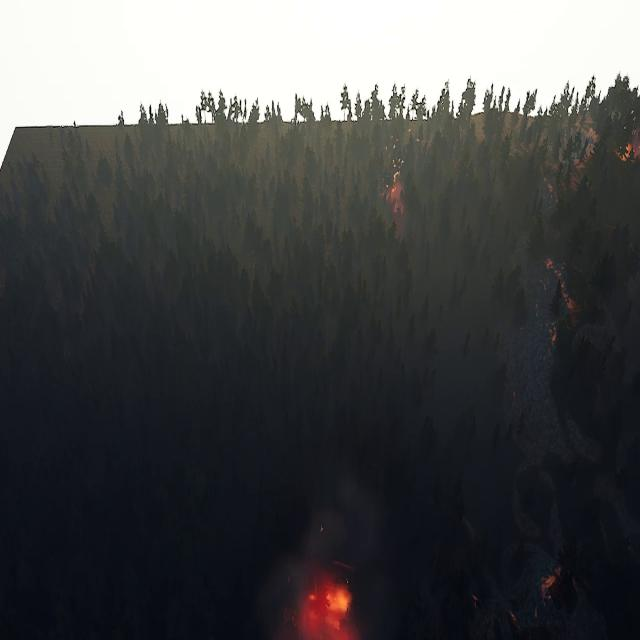fire: (292, 572, 359, 639), (385, 164, 409, 222)
smoke: (265, 471, 400, 640)
